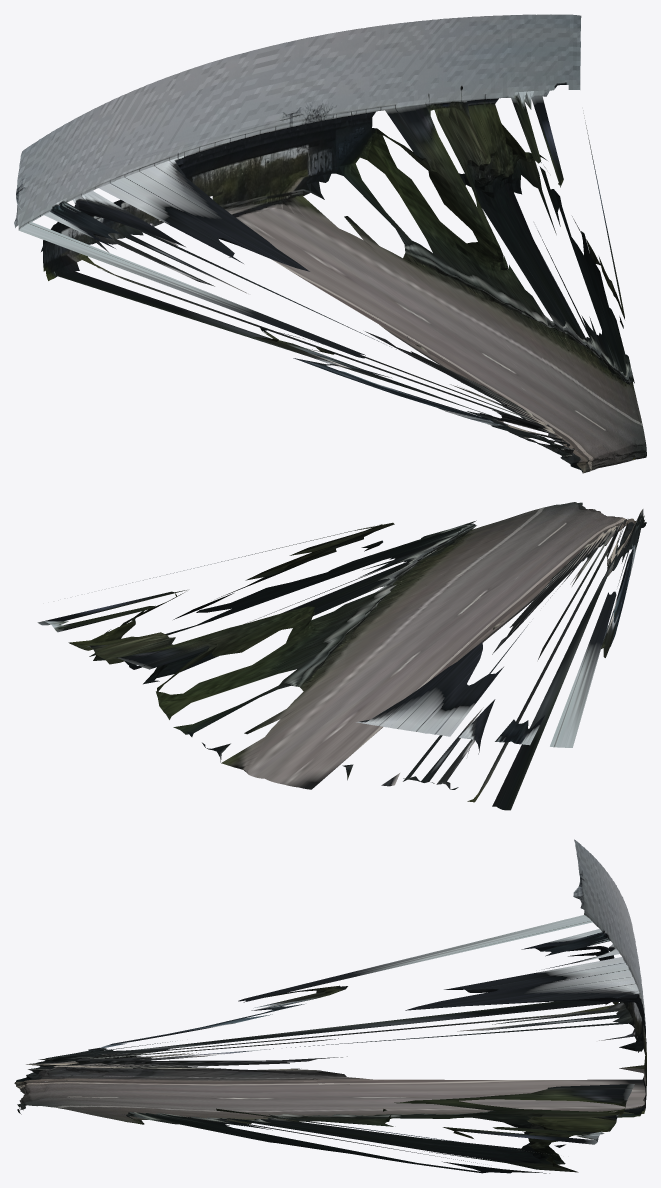
3 renders of one model, top to bottom at view 1: azimuth 30°, elevation 25°; view 2: azimuth 150°, elevation 25°; view 3: azimuth 270°, elevation 25°, orthographic. The views are drawn at different scales.
Visible parts, largest first — view 1: defaultobject; view 2: defaultobject; view 3: defaultobject.
Part boxes in pixels (x1,y1,x2,y2): defaultobject: (14,14,646,473); defaultobject: (37,502,646,810); defaultobject: (14,839,646,1173).
Bounding box in the file's own units: 41.06 × 11.77 × 44.6.
1 material, 1 textured.
